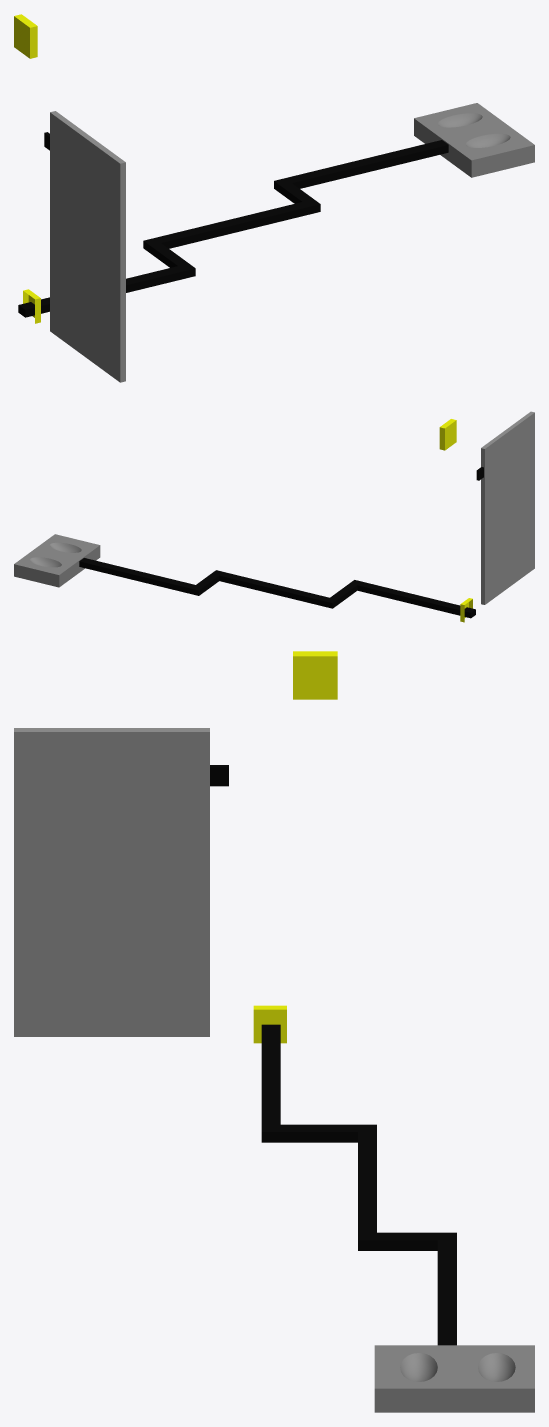
The model's file is Right_Left_Door_1.fbx.
The picture shows the model from 3 angles, top to bottom: view 1: azimuth 30°, elevation 25°; view 2: azimuth 150°, elevation 25°; view 3: azimuth 270°, elevation 25°; orthographic projection. The views are drawn at different scales.
Parts seen in each view (by area): view 1: polySurface5, pPlane27, pCube22; view 2: polySurface5, pPlane27, pCube22; view 3: polySurface5, pPlane27, pCube22.
Boxes of the visible parts, <box> form: polySurface5: <box>50,111,125,382</box>; pPlane27: <box>18,103,534,323</box>; pCube22: <box>14,14,37,58</box>; polySurface5: <box>481,411,534,604</box>; pPlane27: <box>14,534,475,622</box>; pCube22: <box>439,419,456,450</box>; polySurface5: <box>14,728,209,1036</box>; pPlane27: <box>253,1005,534,1412</box>; pCube22: <box>293,651,337,699</box>.
Bounding box in the file's own units: 23.17 × 11.52 × 13.65.
